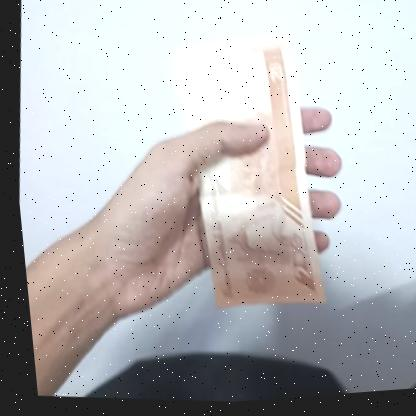twenty-back-vef: (142, 26, 347, 328)
